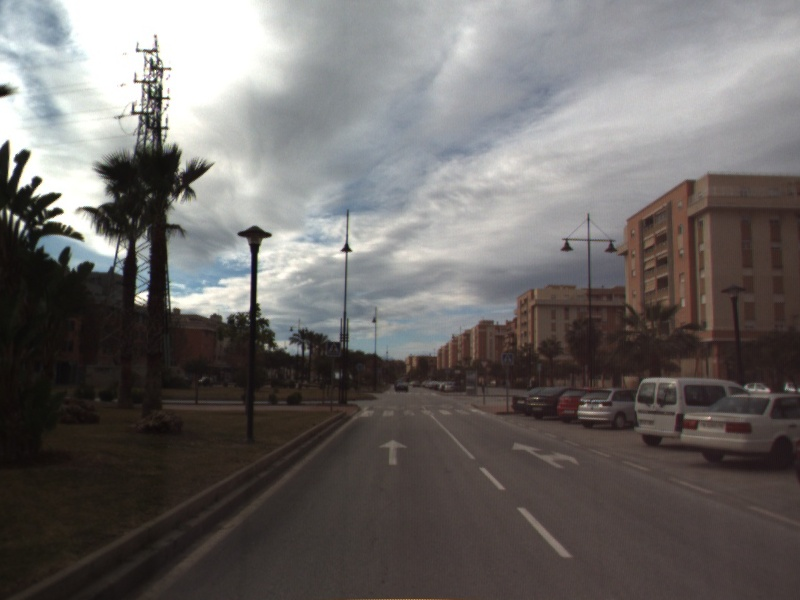STRAIGHT: (377, 437, 409, 467)
STRAIGHT_RIGHT: (510, 440, 581, 470)
